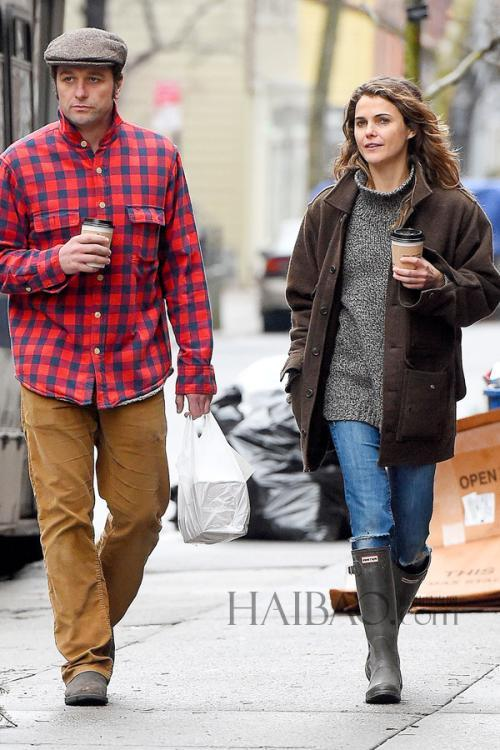up: (1, 19, 216, 709), (279, 69, 500, 709)
